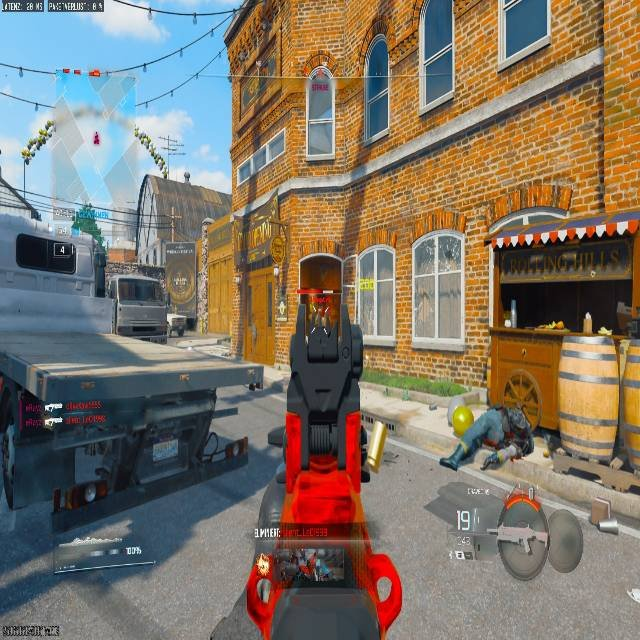player: (437, 383, 561, 472), (313, 308, 330, 340), (317, 298, 329, 332)
